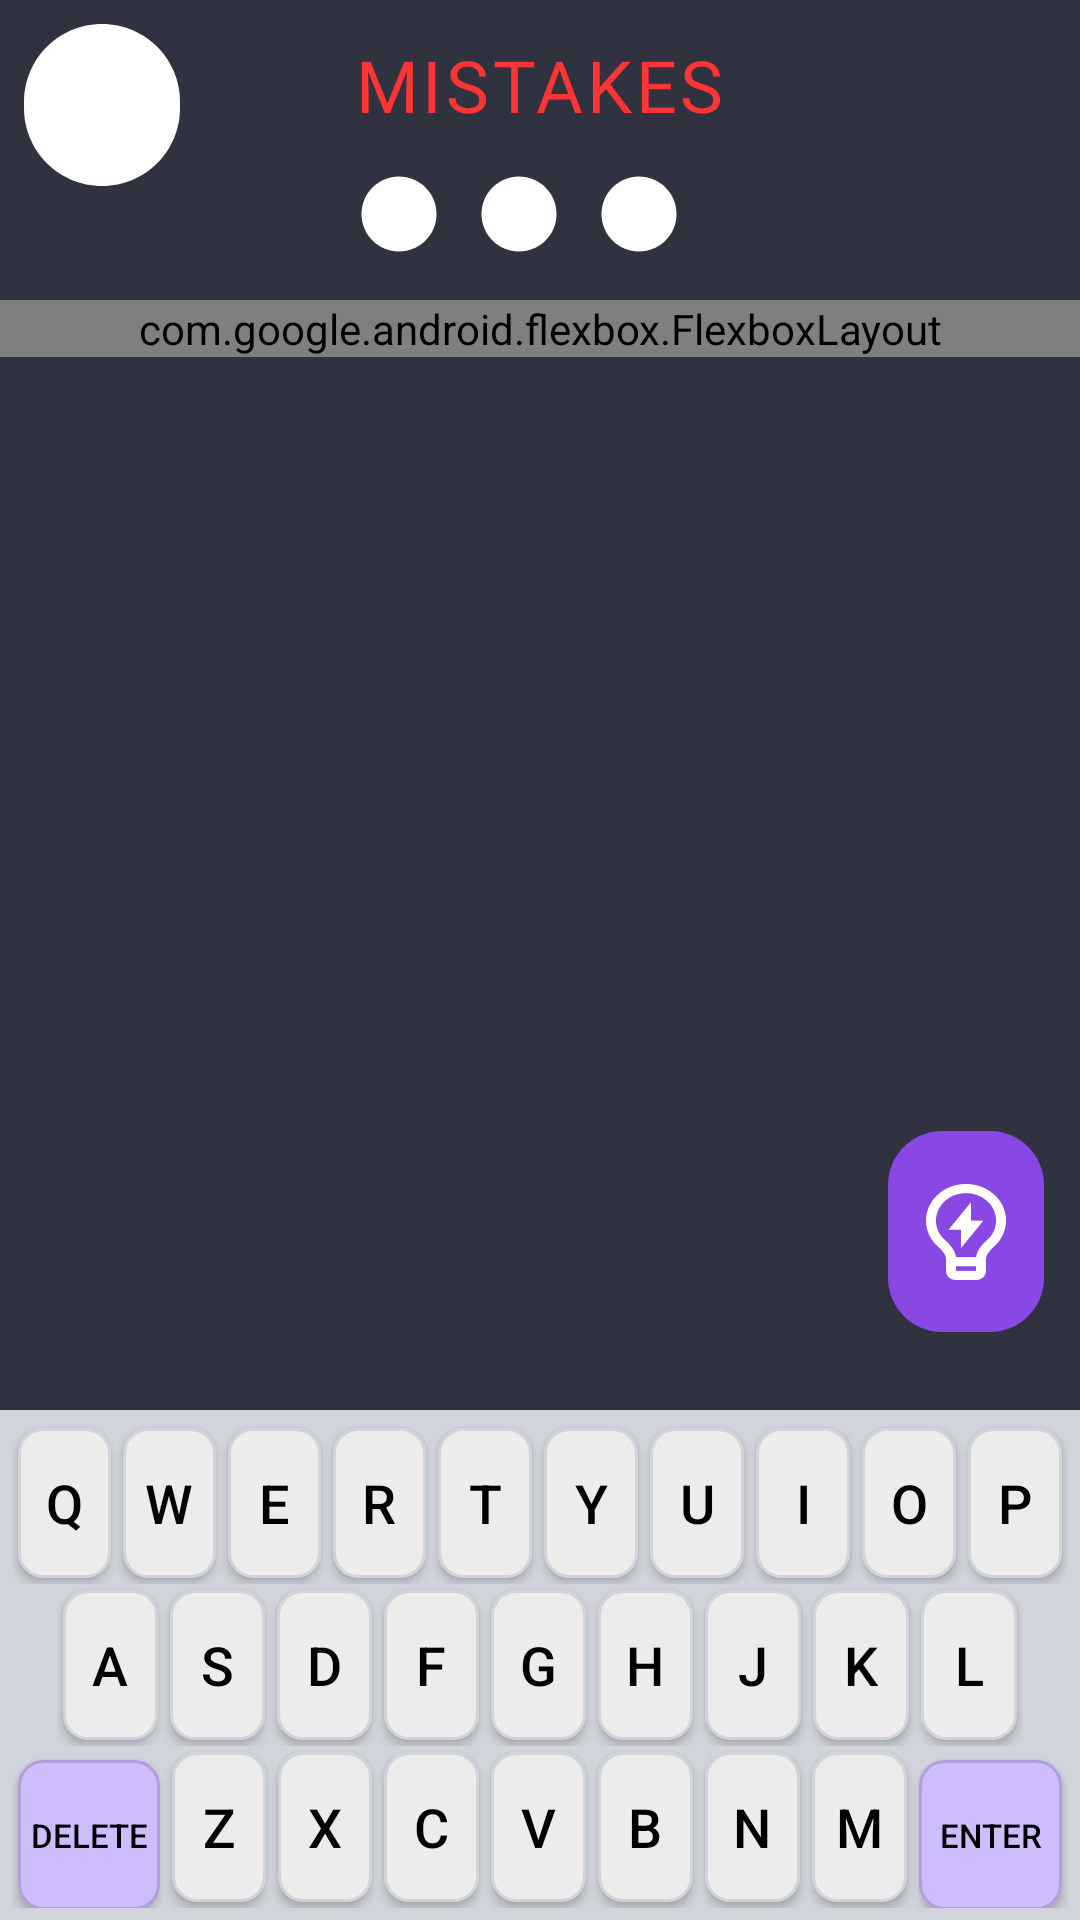

Icons on this 1080×1920 Android screen, each with its box as (x1, y1, x2, y2):
hint: (926, 1184, 1006, 1280)
